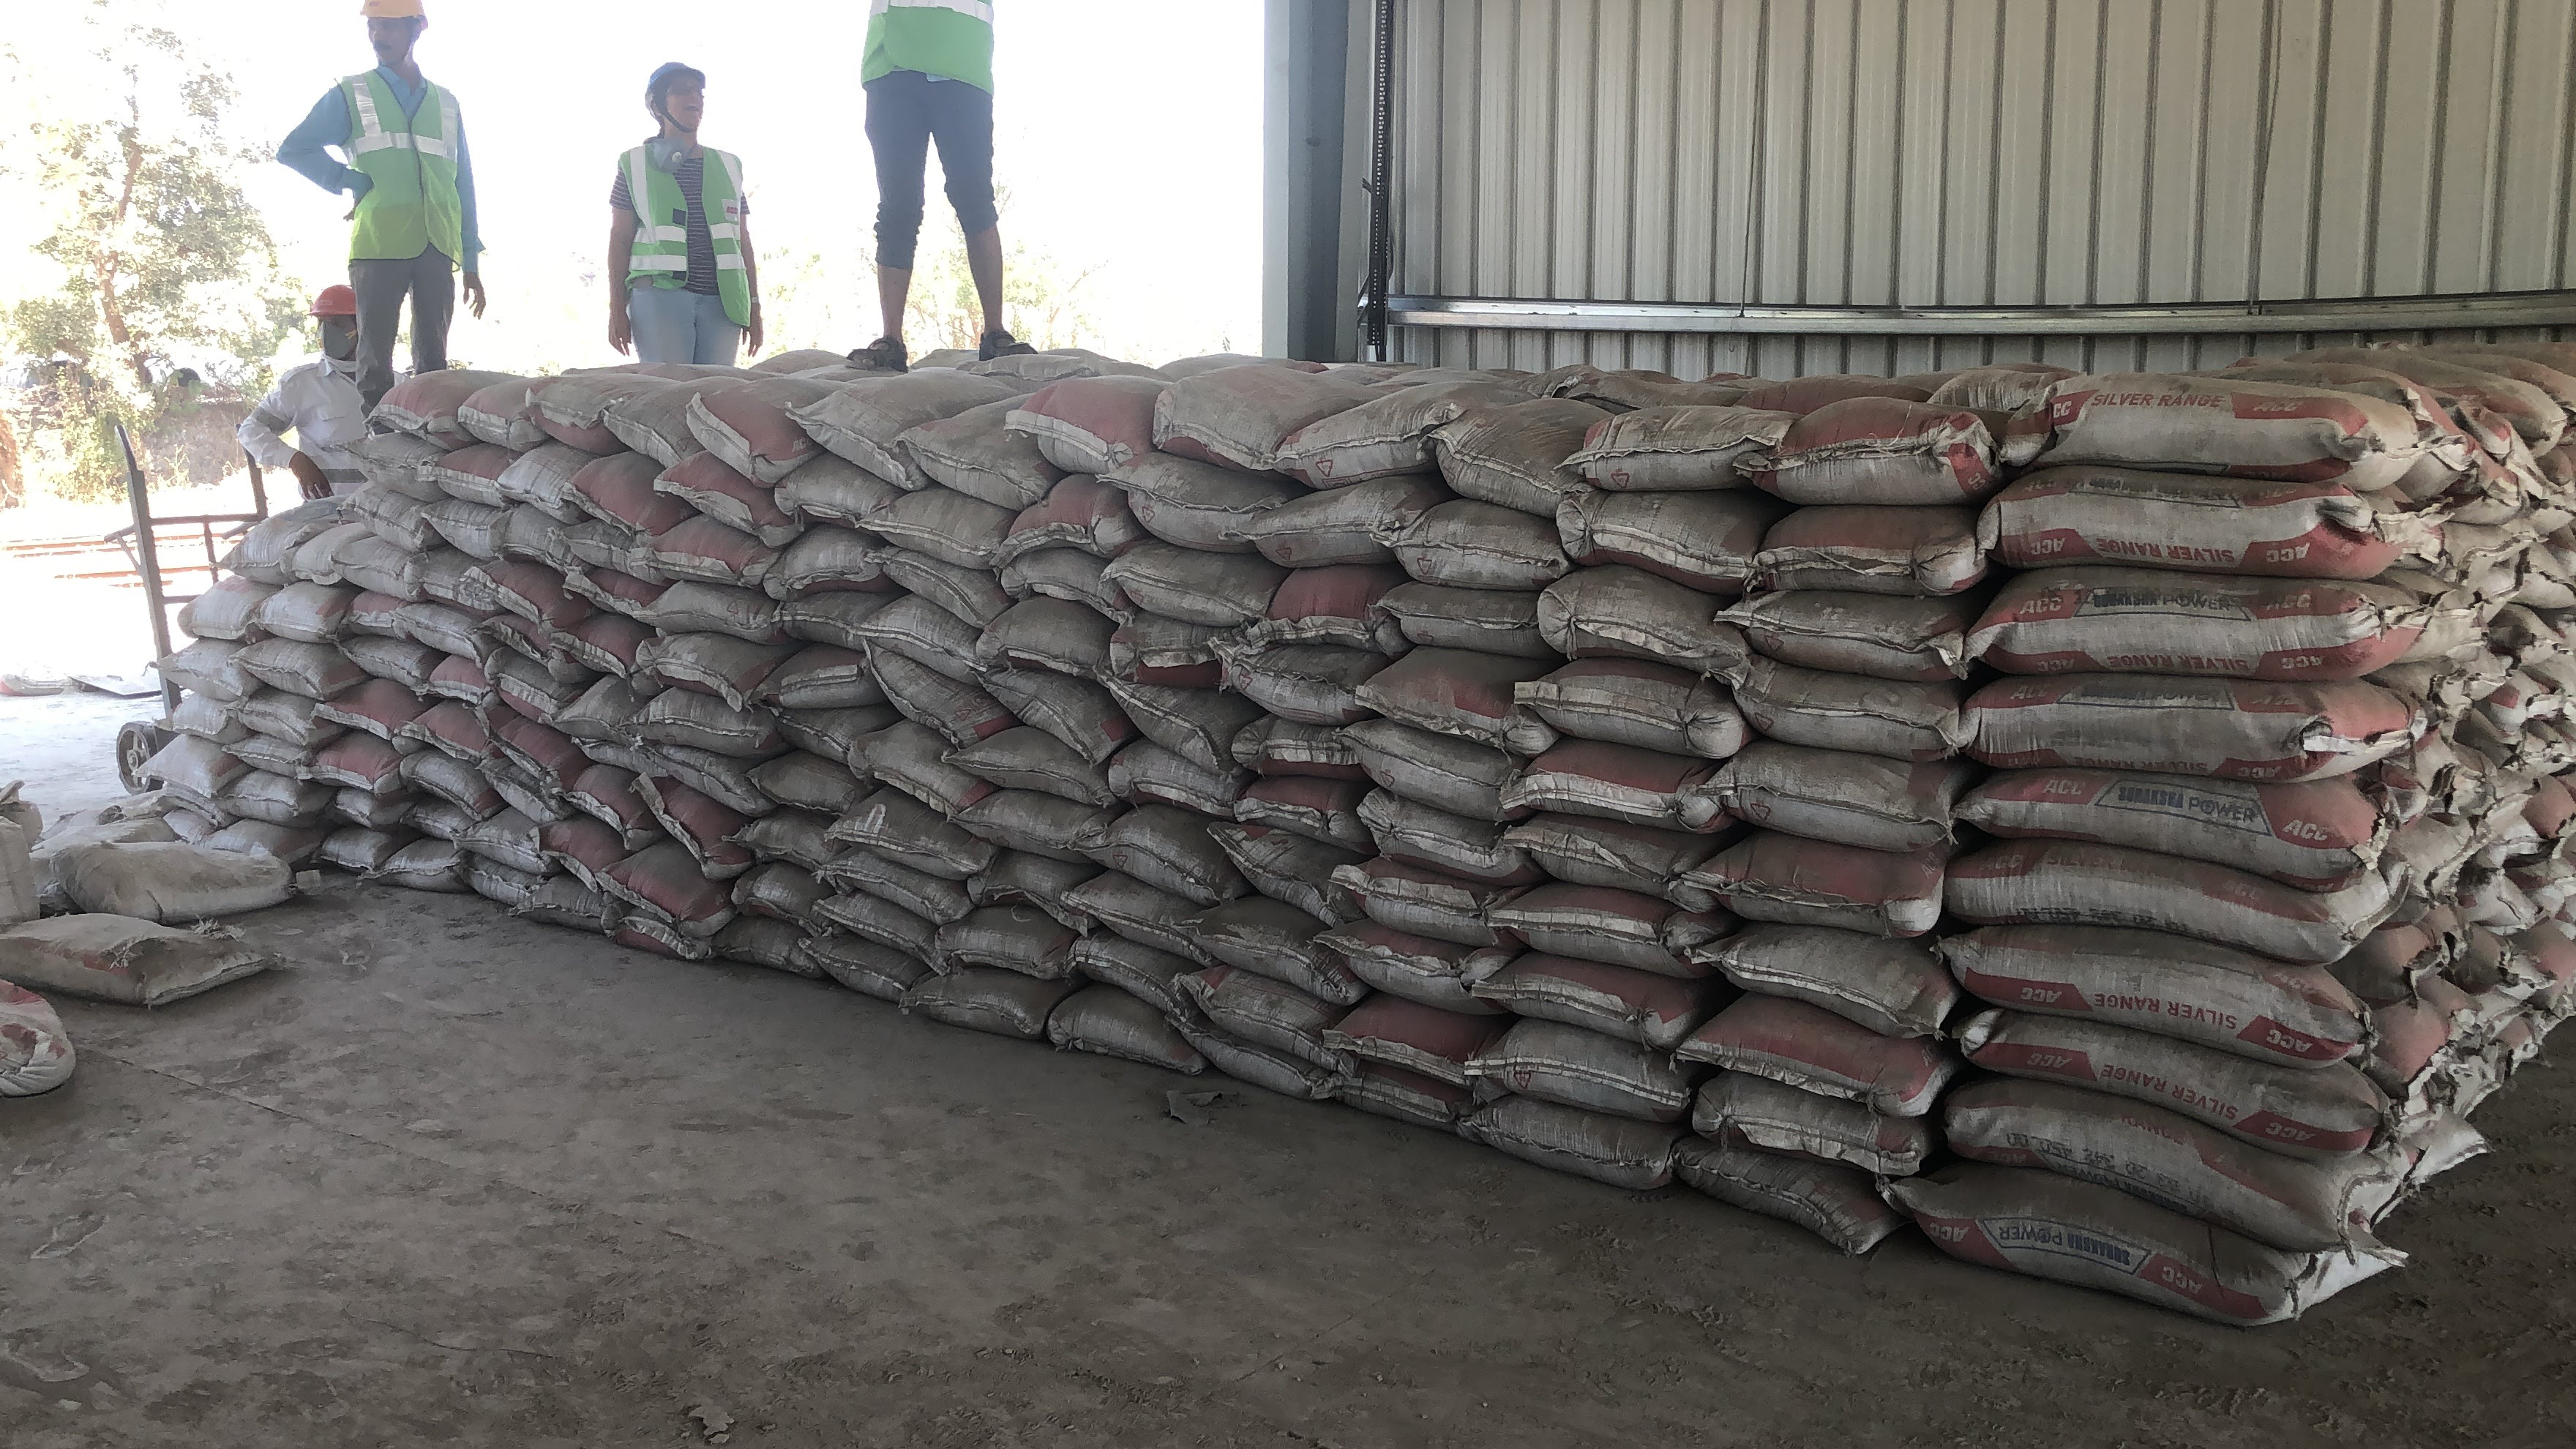cement bag: (1976, 939, 2346, 1067), (1960, 1127, 2335, 1247), (1951, 685, 2335, 801), (1951, 579, 2358, 685), (1999, 465, 2358, 579), (2028, 379, 2399, 465), (1451, 1095, 1683, 1203), (1499, 662, 1734, 766), (1960, 1067, 2346, 1127), (1964, 856, 2254, 936), (1718, 920, 1951, 1016), (1716, 754, 1923, 856), (1766, 570, 1960, 678), (1757, 502, 1973, 593), (1557, 559, 1746, 658), (1495, 968, 1698, 1060), (1716, 678, 1960, 754), (1677, 1016, 1951, 1081), (1741, 395, 1957, 478), (1725, 1067, 1900, 1168), (1431, 382, 1571, 506), (1375, 649, 1527, 754), (334, 589, 501, 681), (1541, 502, 1757, 573), (1499, 593, 1716, 662), (1746, 593, 1973, 658), (1957, 801, 2335, 840), (1352, 729, 1514, 817), (1387, 559, 1557, 642), (1522, 766, 1734, 830), (1228, 633, 1382, 720), (1718, 856, 1923, 920), (1123, 563, 1267, 653), (1072, 925, 1215, 1016), (1339, 993, 1479, 1085), (1104, 674, 1223, 780), (1352, 860, 1477, 957), (1108, 550, 1258, 630), (1382, 586, 1530, 665), (1399, 490, 1541, 573), (1495, 904, 1674, 968), (961, 824, 1079, 920), (1283, 382, 1431, 458), (1522, 830, 1674, 904), (1115, 391, 1283, 458), (1594, 403, 1741, 478), (637, 694, 780, 770), (987, 678, 1118, 761), (1897, 1247, 2335, 1272), (1139, 471, 1276, 550), (1180, 1016, 1307, 1100), (936, 419, 1040, 522), (1191, 888, 1311, 977), (961, 761, 1118, 824), (649, 513, 780, 589), (869, 614, 993, 694), (1223, 777, 1339, 860), (824, 856, 952, 932), (881, 665, 984, 757), (865, 732, 975, 817), (955, 904, 1076, 980), (1108, 801, 1207, 893), (1223, 720, 1382, 777), (901, 538, 996, 630), (1451, 1060, 1698, 1095), (366, 363, 494, 430), (996, 563, 1123, 630), (1031, 391, 1159, 455), (649, 801, 736, 893), (662, 579, 766, 653), (1267, 586, 1382, 653), (1683, 1168, 1900, 1203), (315, 669, 442, 729), (1387, 589, 1530, 642), (347, 430, 494, 481), (315, 729, 407, 809), (777, 419, 936, 465), (483, 642, 589, 709), (830, 925, 920, 1003), (1352, 817, 1514, 860), (1276, 573, 1378, 640), (1286, 490, 1399, 550), (347, 481, 439, 550), (494, 577, 589, 642), (780, 538, 901, 589), (685, 402, 777, 465), (824, 817, 975, 856), (474, 780, 541, 862), (637, 653, 766, 694), (379, 833, 469, 890), (1180, 977, 1311, 1016), (1339, 957, 1477, 993), (598, 906, 690, 957), (1327, 1085, 1479, 1115), (322, 550, 439, 589), (586, 474, 658, 534), (522, 391, 605, 442), (407, 754, 478, 814), (1191, 860, 1339, 888), (483, 709, 541, 780), (1051, 1016, 1215, 1040), (318, 821, 373, 876), (626, 407, 709, 439), (1108, 780, 1223, 801), (1040, 490, 1108, 522), (920, 989, 1067, 1003), (598, 893, 736, 906)
